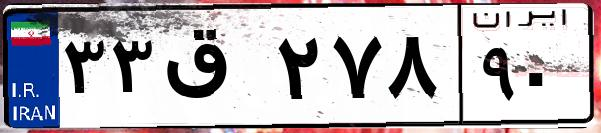0: (525, 38, 570, 115)
2: (270, 28, 330, 110)
3: (57, 26, 110, 100), (110, 28, 158, 98)
7: (330, 28, 385, 110)
8: (385, 28, 445, 110)
9: (475, 38, 525, 113)
ق: (158, 20, 270, 120)
